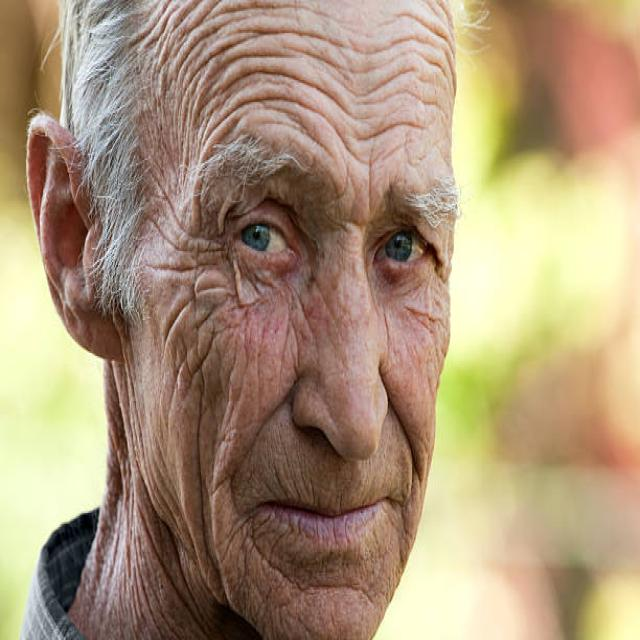Wrinkles: (256, 97, 369, 166), (222, 68, 353, 114), (174, 17, 250, 81), (198, 383, 221, 589), (289, 46, 446, 75), (260, 104, 332, 156), (185, 36, 258, 85), (148, 165, 186, 232), (203, 51, 293, 79), (397, 12, 454, 56), (360, 89, 449, 117), (174, 1, 218, 56), (232, 29, 348, 47), (130, 1, 169, 46), (207, 4, 315, 20), (360, 68, 417, 97), (167, 2, 197, 54), (354, 35, 430, 55), (281, 301, 300, 379), (360, 118, 427, 139), (189, 326, 214, 381), (145, 7, 179, 46), (148, 217, 187, 251), (165, 300, 192, 347), (175, 339, 193, 397), (384, 140, 412, 160), (147, 264, 194, 271), (369, 163, 372, 214), (200, 367, 204, 394)
